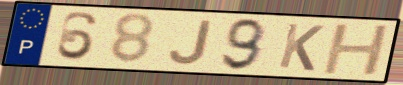6: (54, 10, 101, 64)
8: (106, 12, 161, 67)
9: (220, 16, 271, 73)
H: (320, 23, 393, 76)
J: (167, 18, 215, 66)
K: (276, 21, 327, 73)
